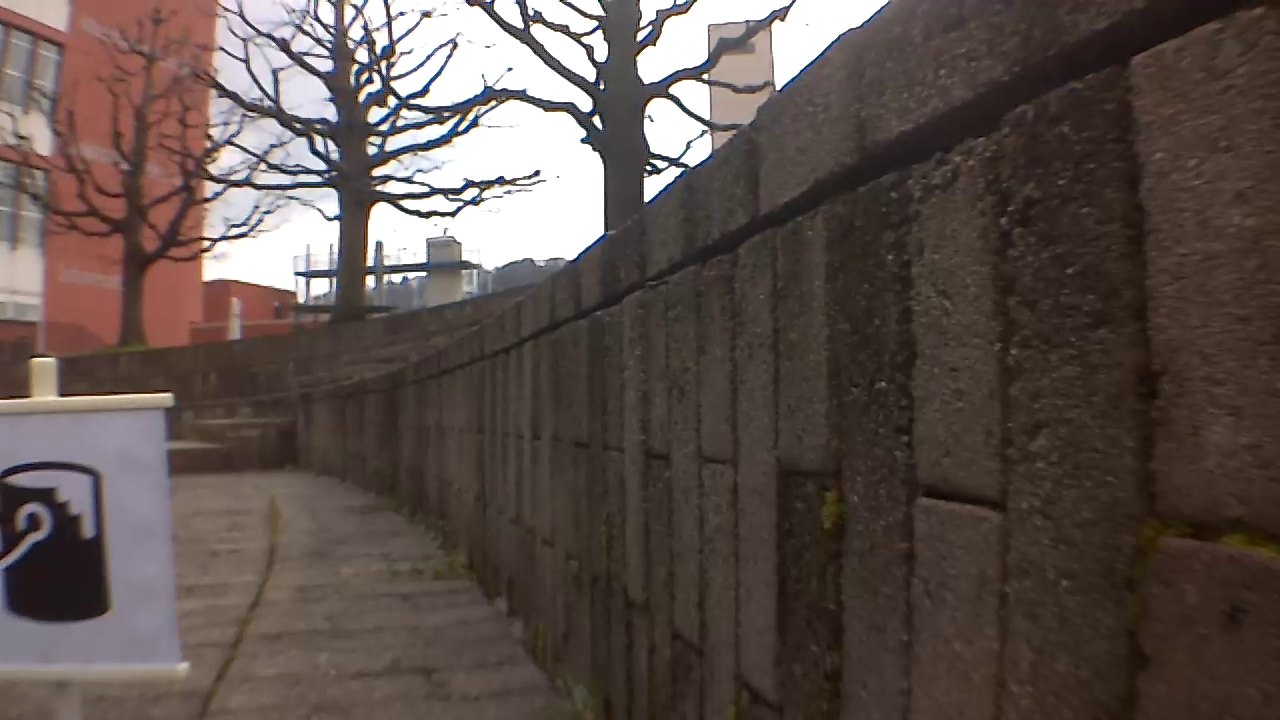bucket: (0, 458, 108, 626)
